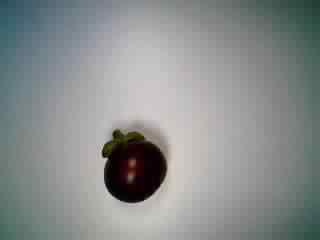mangosteen: (98, 126, 175, 205)
